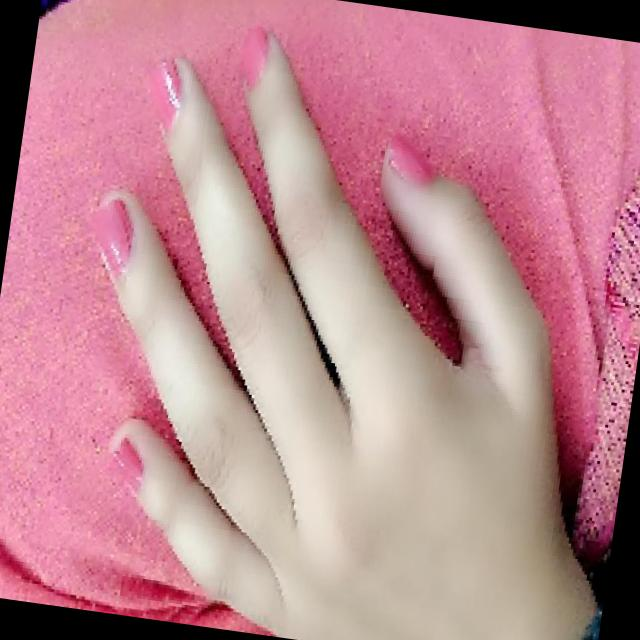Nail: (93, 199, 133, 275), (149, 61, 182, 131), (388, 135, 434, 183), (113, 438, 143, 491), (241, 27, 268, 85)
